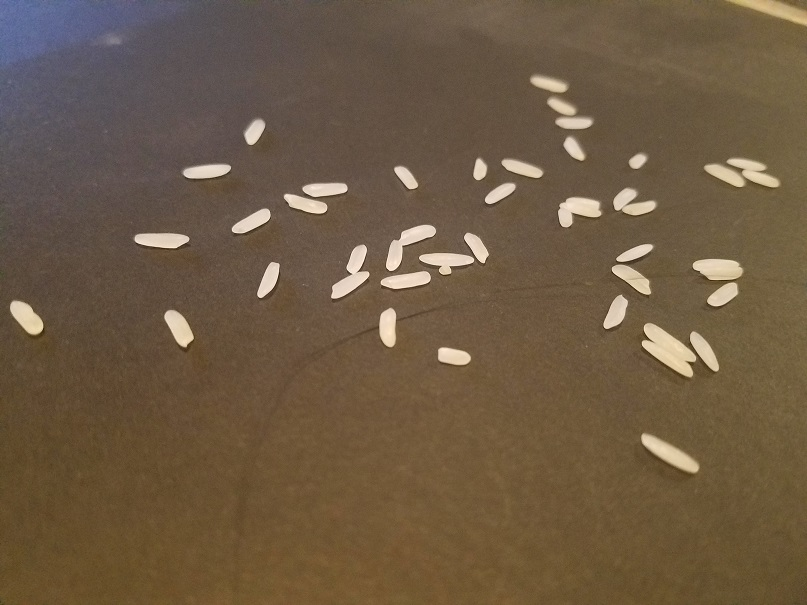egg: (639, 430, 701, 475), (643, 319, 697, 365), (636, 339, 695, 380), (609, 261, 656, 298), (9, 298, 46, 339), (163, 307, 196, 351), (688, 330, 720, 374), (230, 204, 271, 237), (329, 270, 371, 301), (131, 230, 192, 249), (284, 192, 330, 217), (703, 162, 747, 188), (380, 271, 433, 292), (600, 294, 630, 331), (496, 158, 544, 181), (462, 229, 490, 267), (706, 281, 742, 310), (257, 259, 281, 301), (419, 250, 475, 268), (739, 167, 782, 189), (689, 255, 747, 271), (614, 241, 653, 264), (529, 73, 571, 94), (344, 242, 369, 276), (484, 181, 519, 205), (400, 223, 438, 245), (378, 305, 397, 348), (180, 163, 234, 178), (611, 183, 641, 210), (619, 198, 663, 216), (437, 344, 471, 367), (242, 117, 267, 148), (393, 164, 420, 191), (302, 181, 350, 196), (563, 134, 587, 164), (385, 237, 405, 272), (563, 201, 603, 218), (699, 267, 747, 281), (724, 155, 767, 170), (552, 115, 598, 128), (548, 97, 579, 116), (566, 192, 602, 208), (472, 157, 491, 182), (556, 207, 575, 230), (628, 151, 648, 172), (437, 263, 454, 276)
